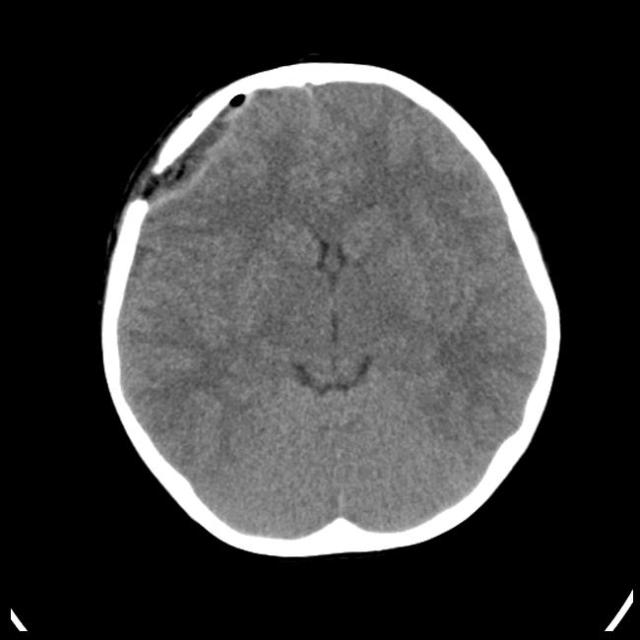lesion: (98, 60, 562, 556)
